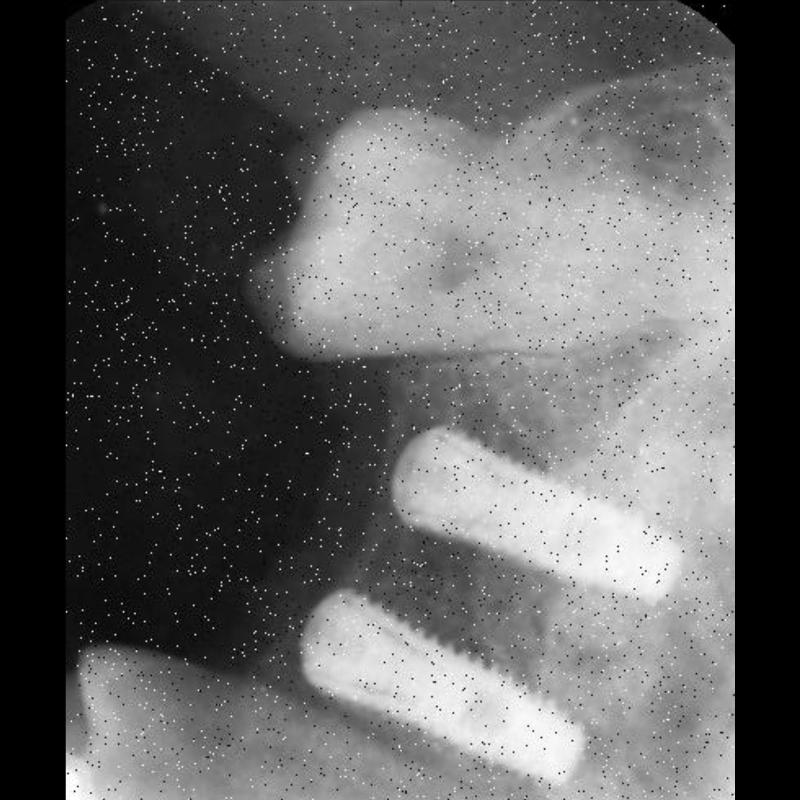Dentium: (296, 589, 592, 795)
